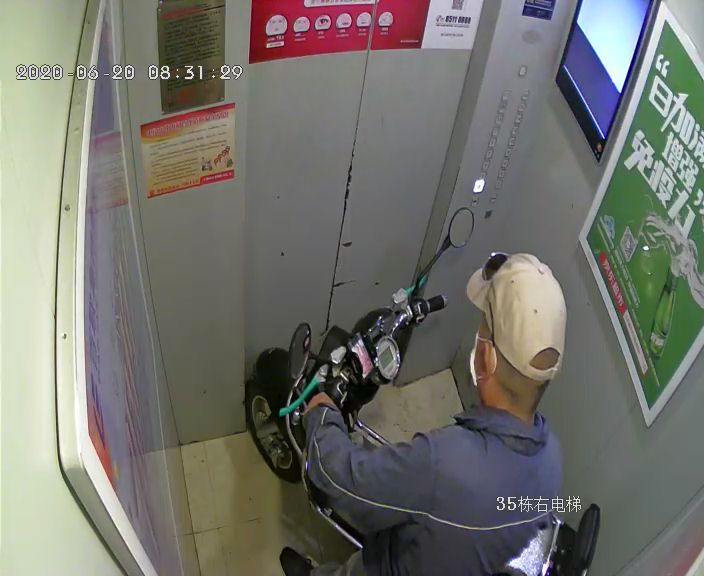Electric-bicycle: (255, 207, 597, 576)
